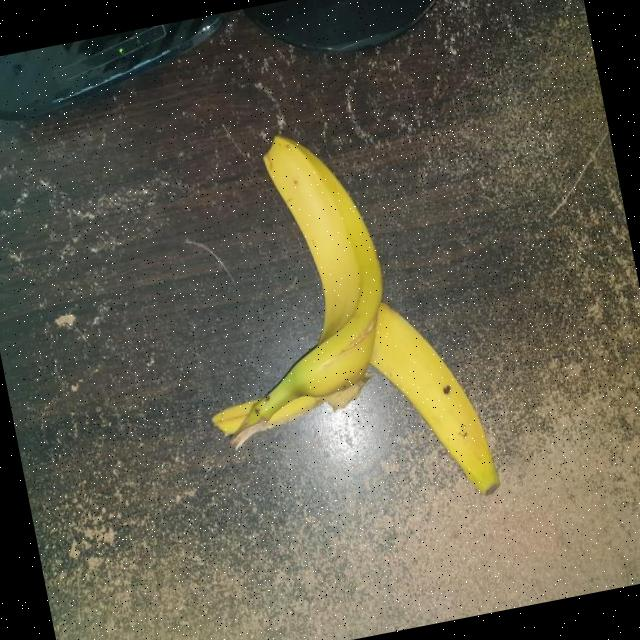banana-peel: (160, 103, 502, 544)
